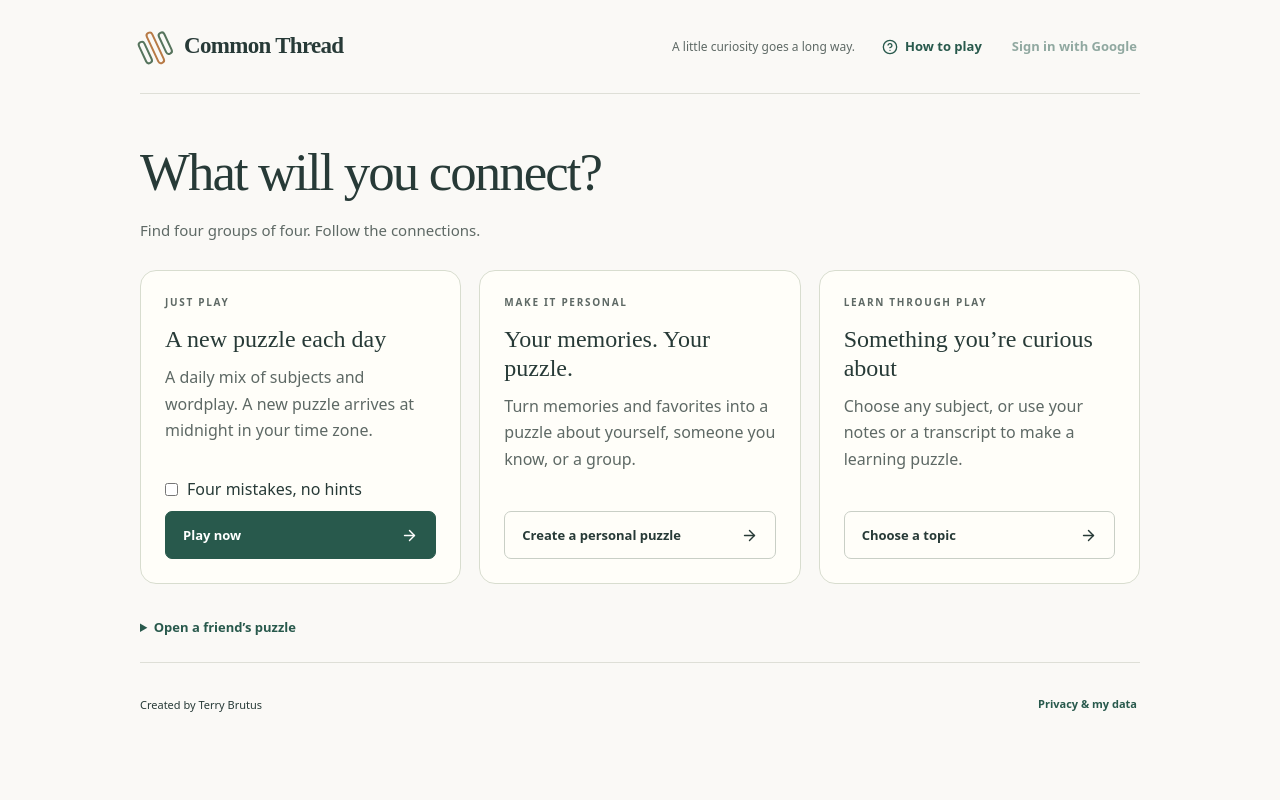
it: clear learning and play routes › generates from an arbitrary subject, keeps inputs on failure, never sends a personal story, and hides answers
Click the button "Choose a topic" at {"x": 909, "y": 535}, box [844, 511, 1115, 559]
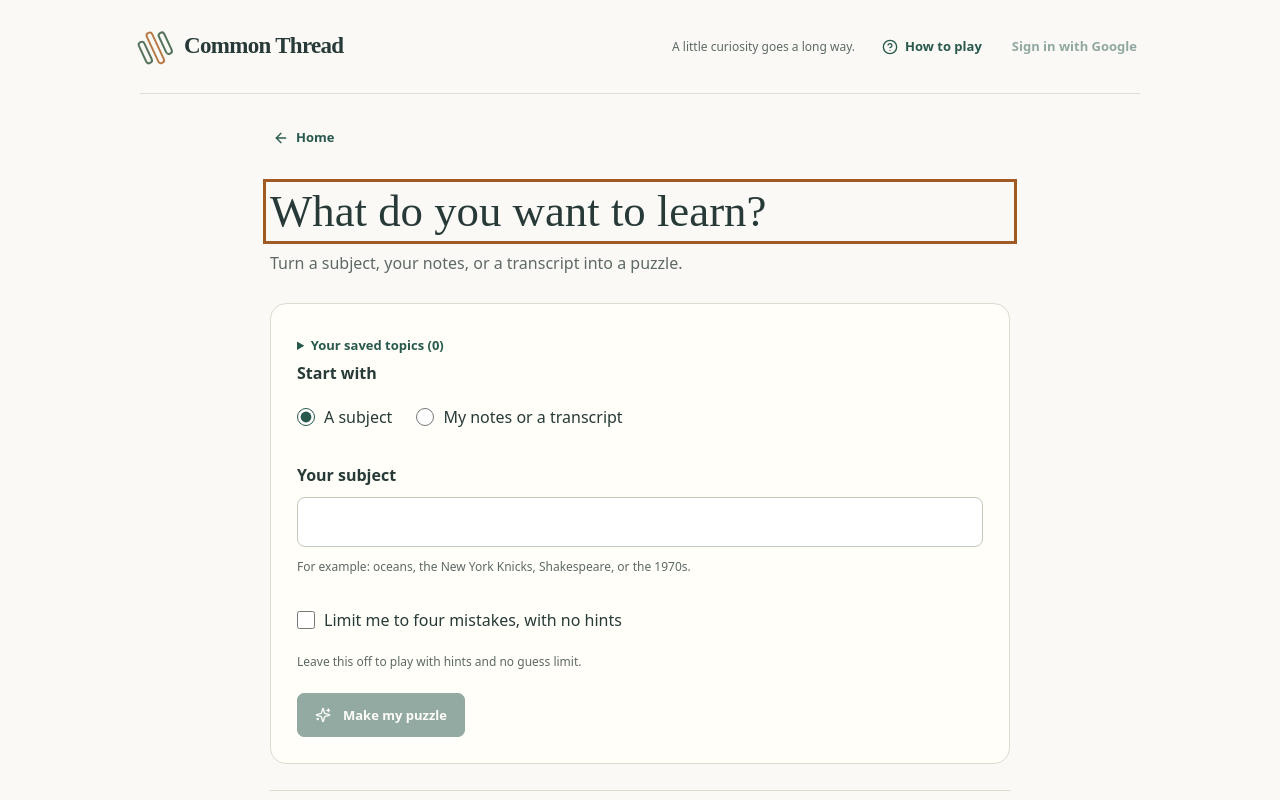
Type "Shakespeare" into the field labelled "Your subject" at {"x": 640, "y": 522}, box [297, 497, 983, 547]
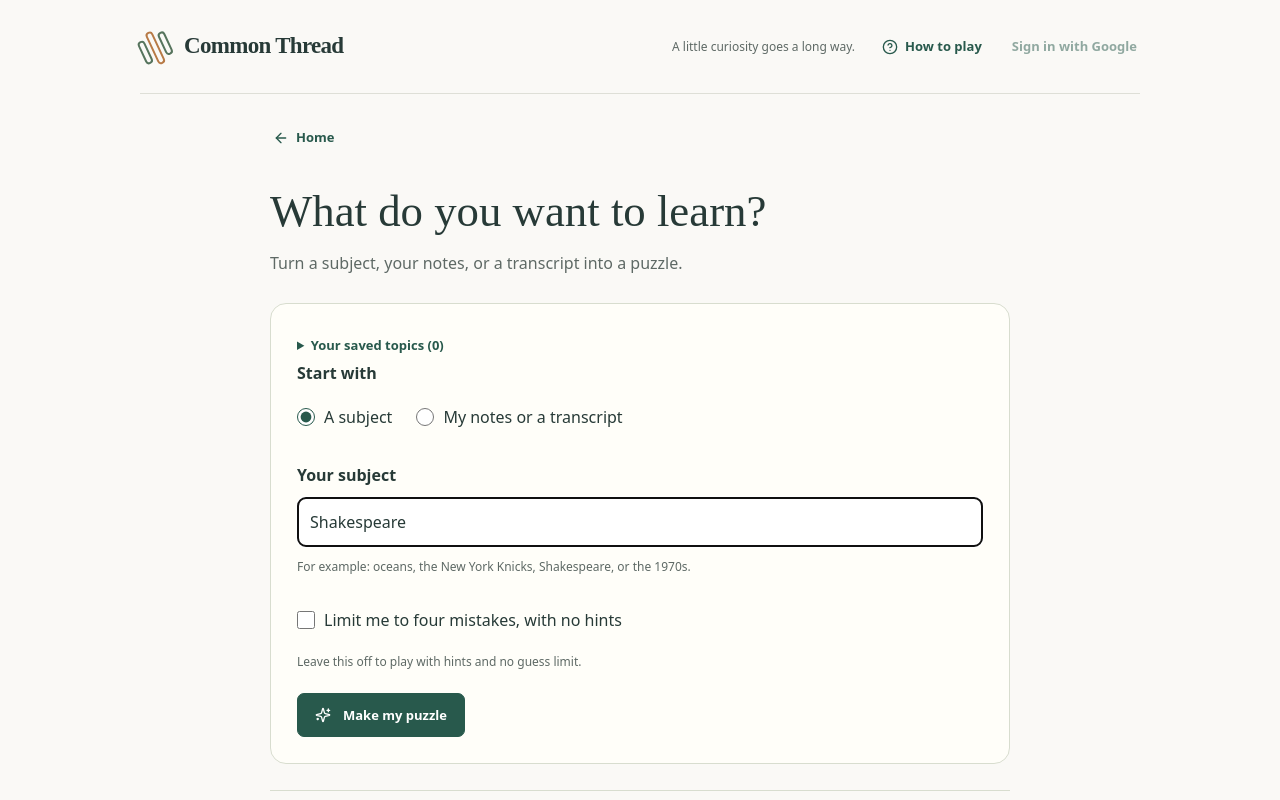
Click the button "Make my puzzle" at {"x": 381, "y": 716}, box [297, 694, 465, 738]
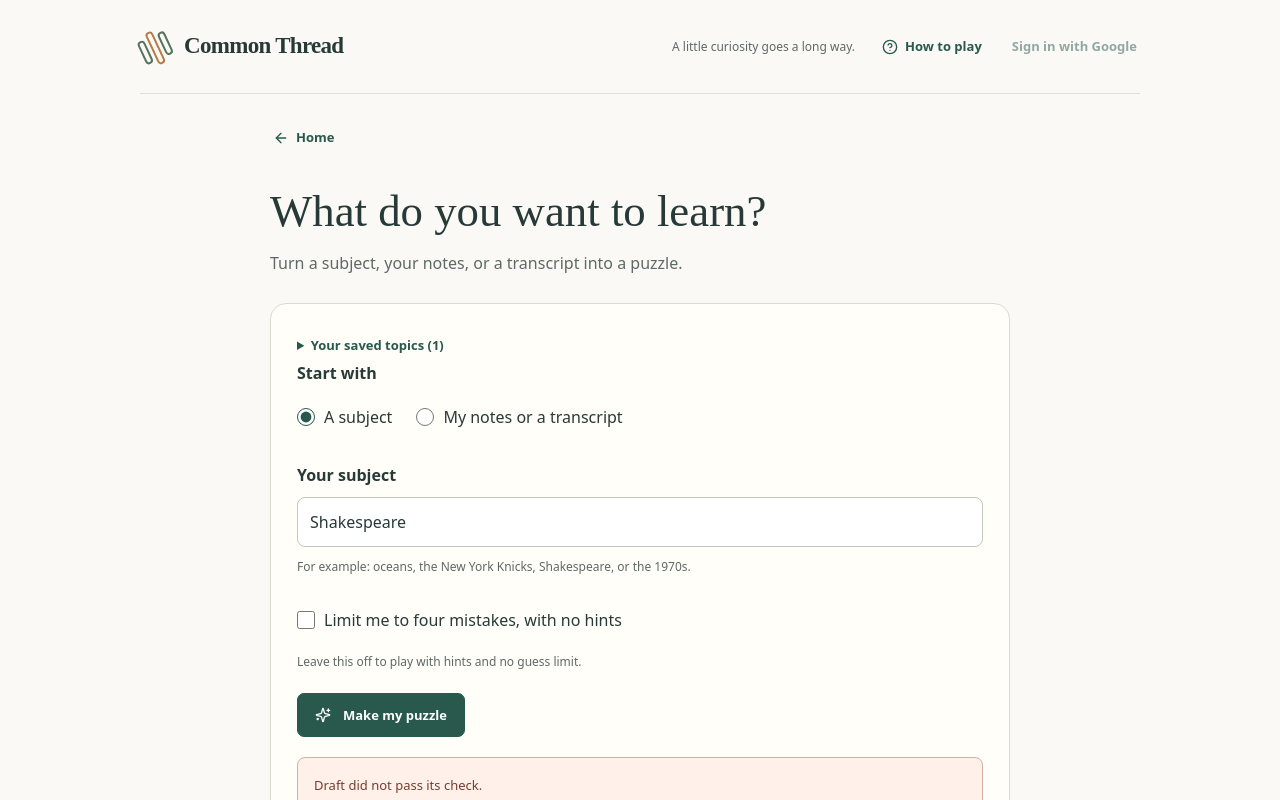
Check: the message shows "Draft did not pass", box [314, 776, 482, 794]
Click the button "Make my puzzle" at {"x": 381, "y": 716}, box [297, 694, 465, 738]
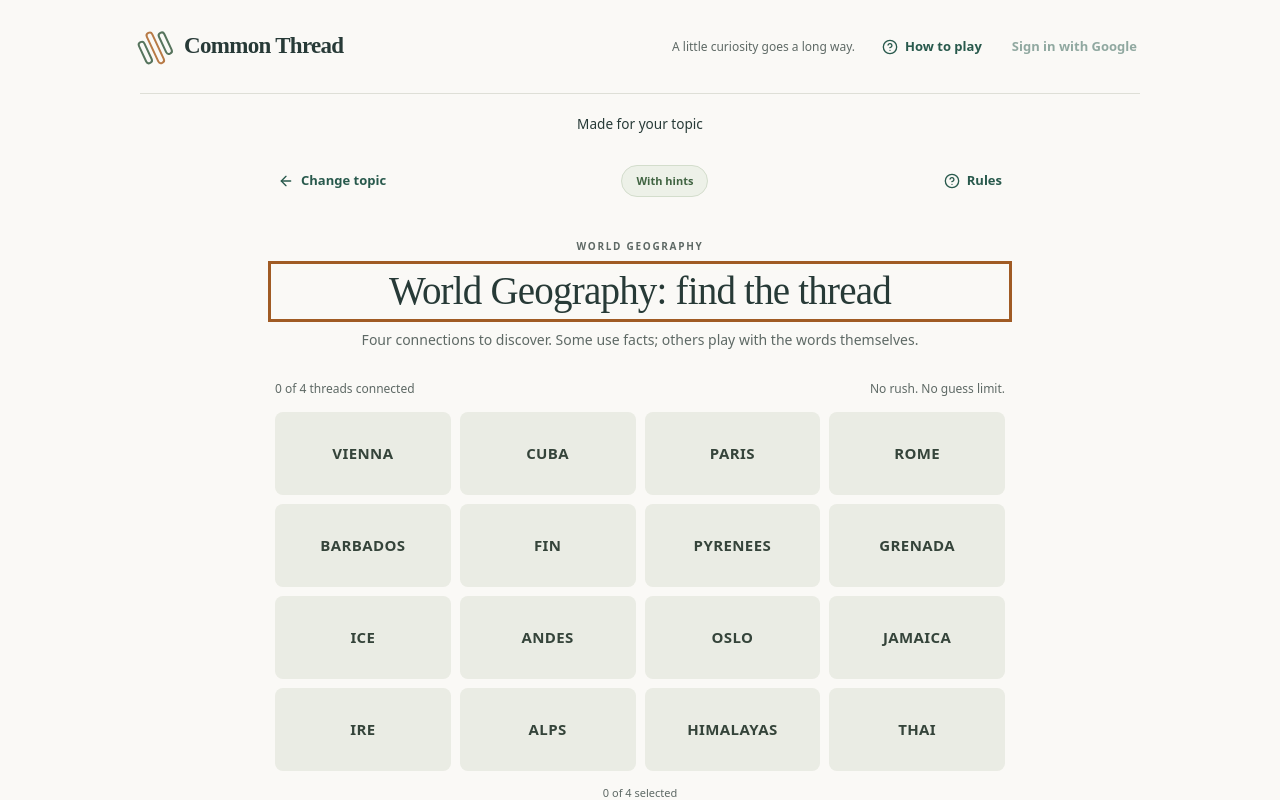
Check: the element named "Words to connect" is shown, box [275, 412, 1005, 771]
